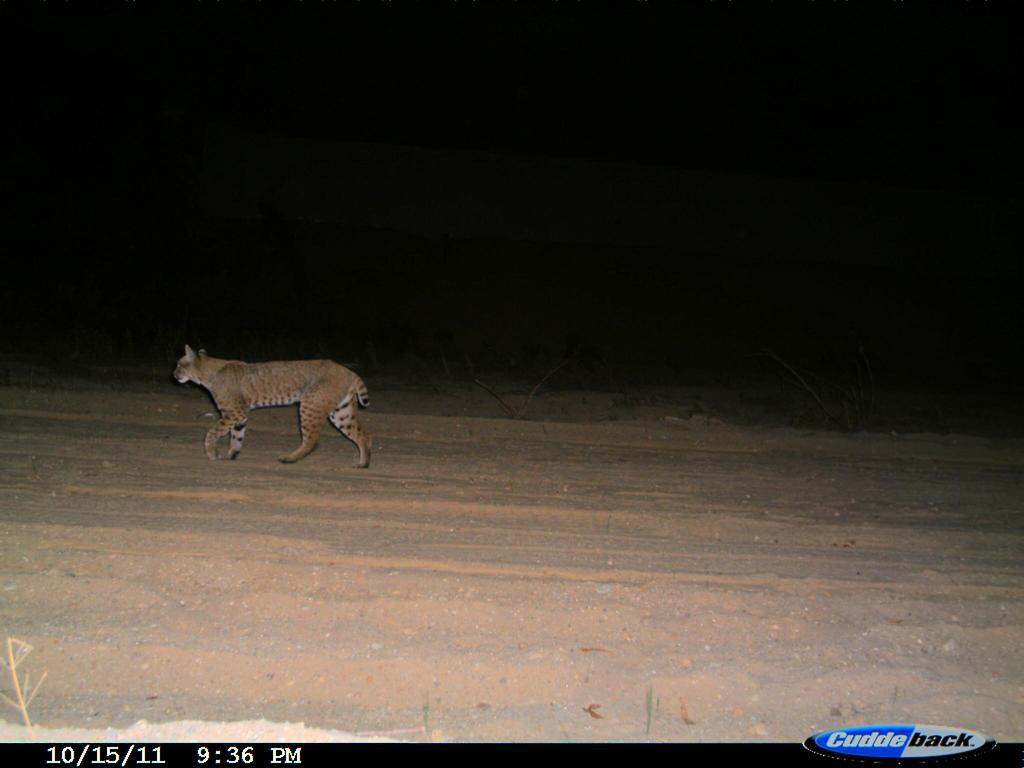bobcat: (166, 341, 387, 477)
